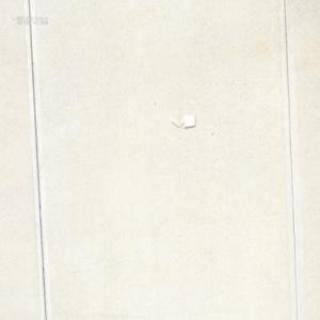LuggageTagtrack_idkeyframe: (170, 112, 195, 129)
